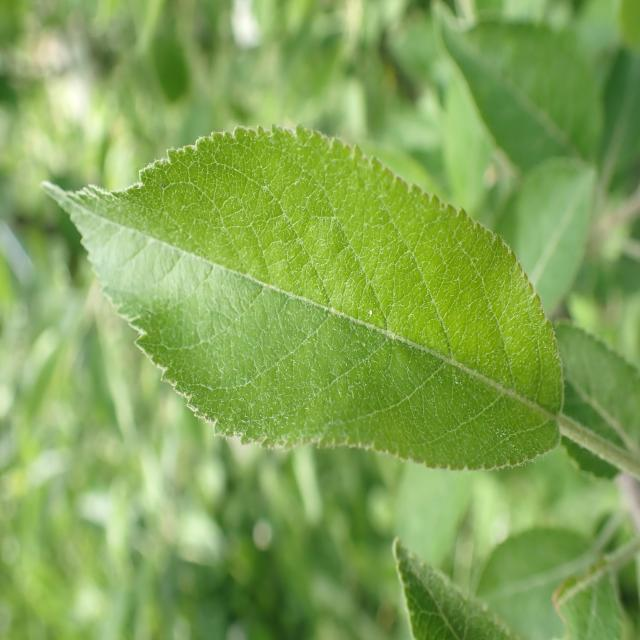healthy: (42, 122, 566, 473), (551, 320, 640, 482), (392, 534, 522, 640)
